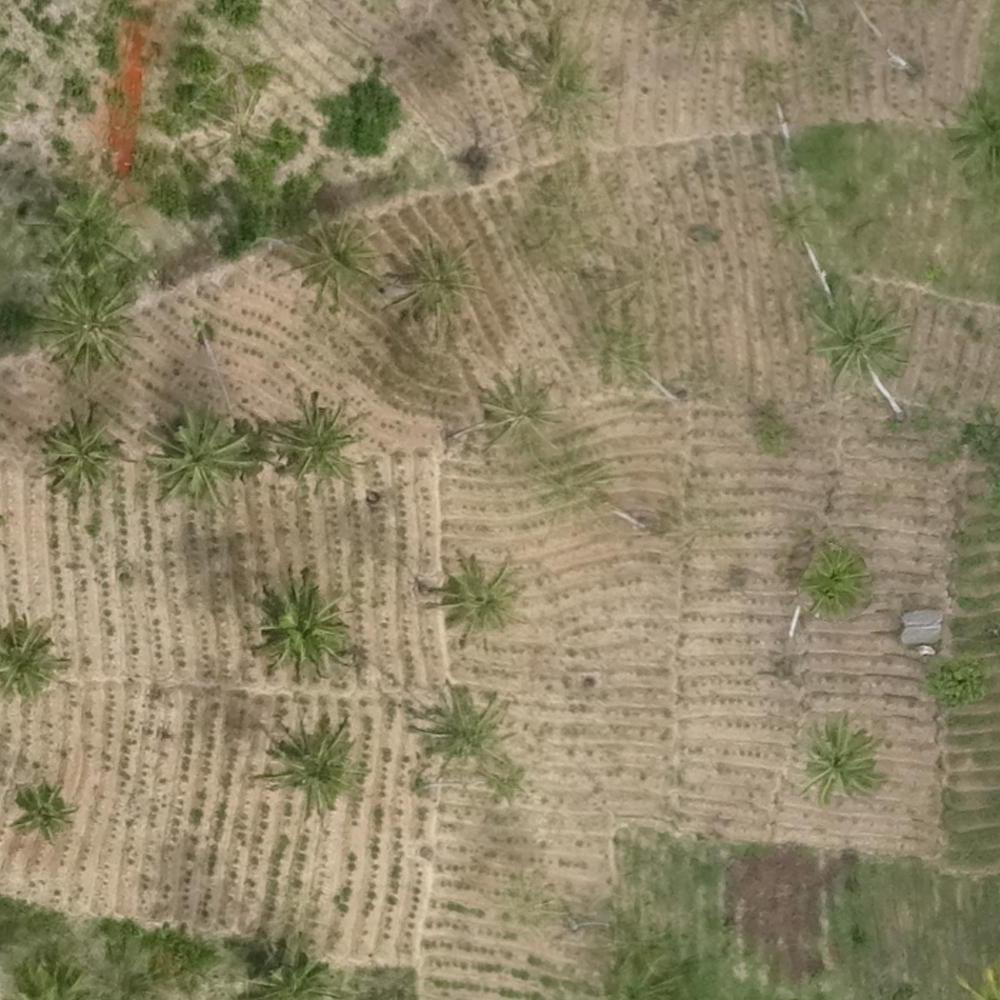Palm: (252, 571, 357, 672), (413, 684, 512, 779), (143, 409, 245, 498), (813, 290, 907, 380), (393, 242, 485, 329), (42, 281, 135, 367), (274, 718, 359, 810), (264, 395, 354, 480), (290, 212, 379, 296), (428, 551, 519, 633), (40, 406, 119, 491), (800, 722, 883, 800), (804, 543, 875, 612), (5, 618, 61, 699), (14, 778, 72, 845)
